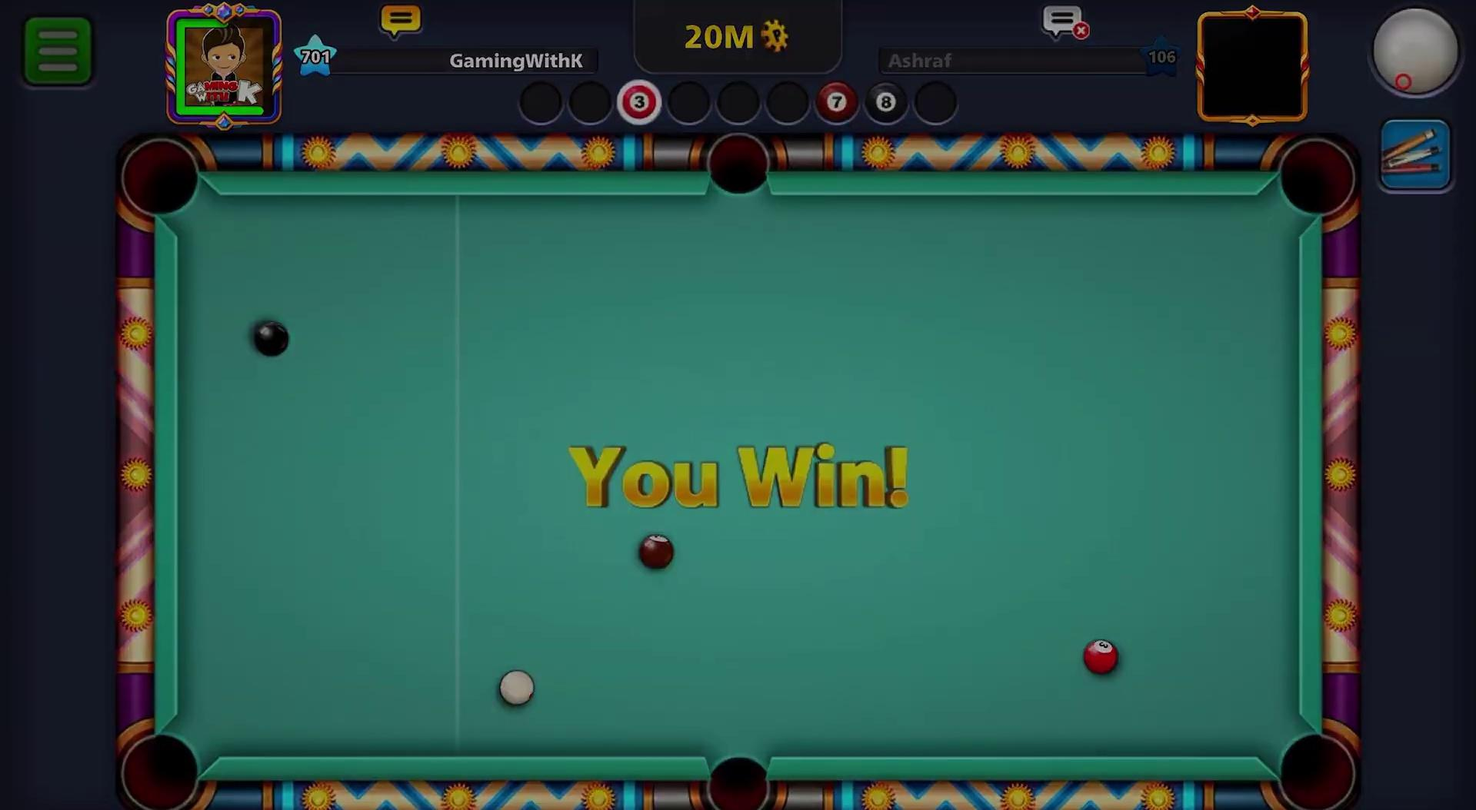Ball: (630, 532, 680, 576), (247, 314, 293, 359), (1079, 636, 1123, 679)
Hole: (107, 126, 218, 232), (1268, 131, 1364, 230), (110, 717, 212, 809), (1267, 715, 1363, 809), (688, 739, 785, 809), (696, 128, 779, 204)
Play_Area: (168, 194, 1303, 759)
Spin: (1347, 1, 1475, 118)
White: (494, 668, 538, 708)
